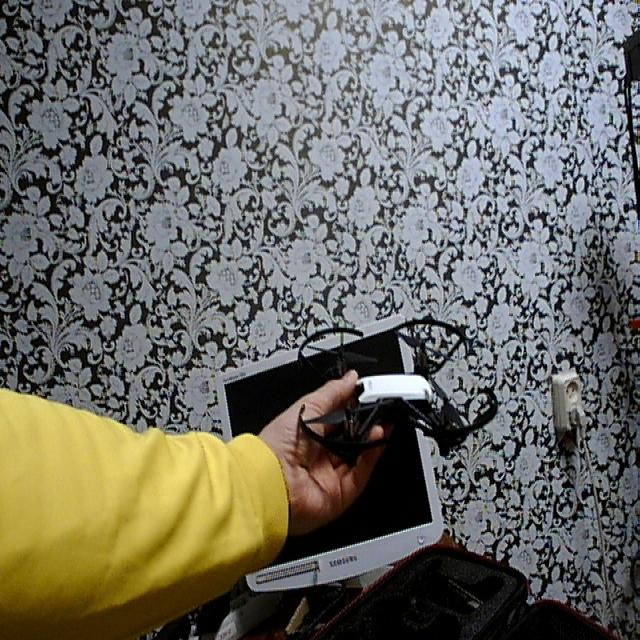drone: (294, 303, 502, 474)
